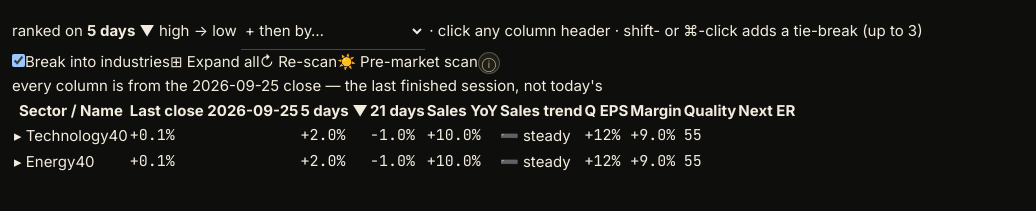
Scenario: a FAILED re-rank keeps header and rows in agreement (critic #1) › NEGATIVE: ✕ clear after a failed default read retries instead of going dead
Check: the button "▸ Technology" is shown, box [14,124,109,148]
Click the button "Q EPS".
click(606, 111)  # box [584,99,628,122]
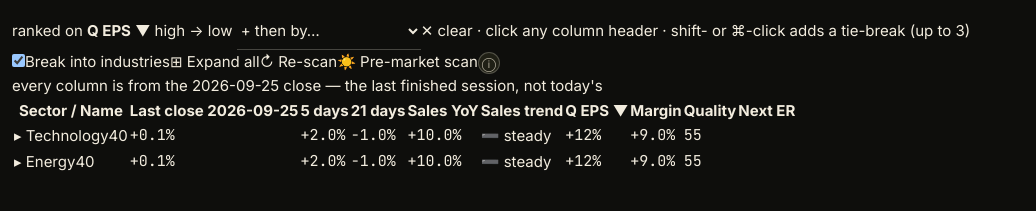
Check: the button "Q EPS ▼" is shown, box [565,99,628,122]
Click the button with test id "hs-sort-clear".
click(447, 31)  # box [421,19,473,42]
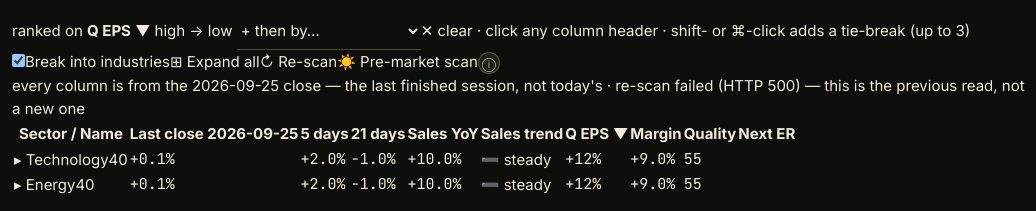
Check: the button "Q EPS ▼" is shown, box [565,122,628,146]
Click the button with test id "hs-sort-clear".
click(447, 31)  # box [421,19,473,42]
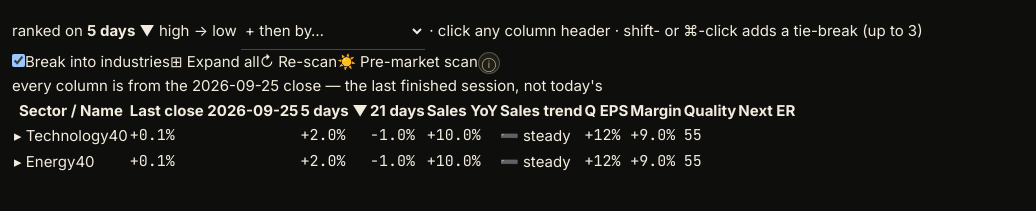
Check: the button "5 days ▼" is shown, box [300,99,368,122]
